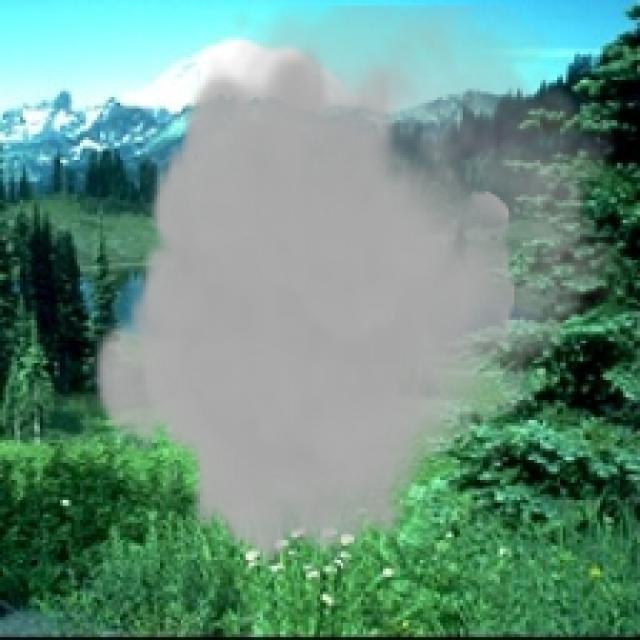Smoke: (89, 6, 632, 568)
